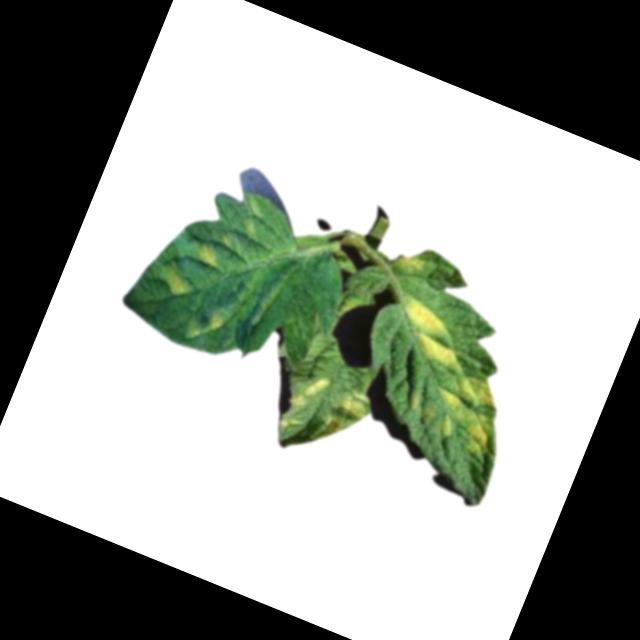Leaf_Mold: (414, 363, 508, 464), (384, 295, 471, 371), (314, 382, 375, 451), (278, 366, 331, 436), (157, 265, 194, 301), (390, 247, 429, 280), (200, 305, 230, 337), (191, 238, 221, 268)
